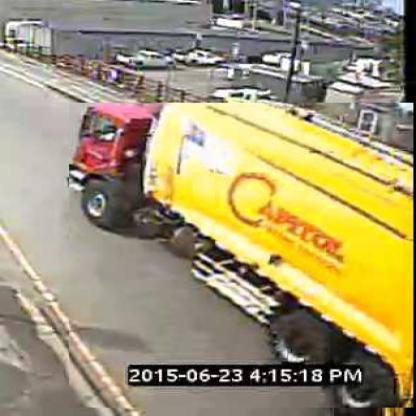truck: (70, 104, 416, 410)
